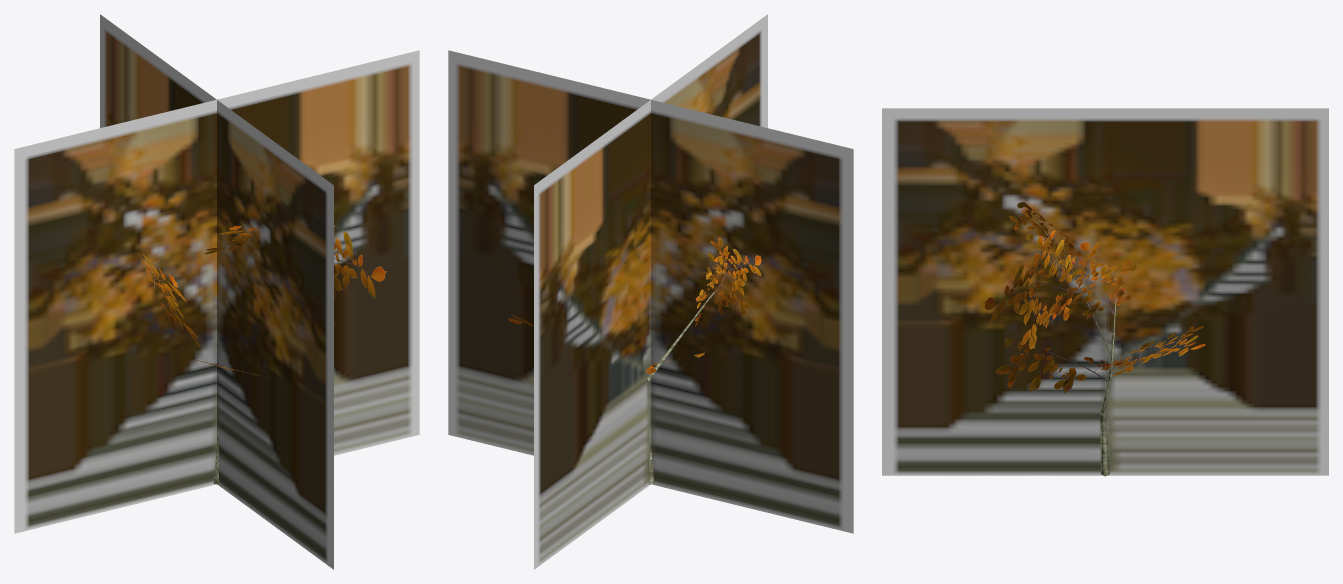
File: Tree-Beech6B-mobile.fbx
The picture shows the model from 3 angles, left to right: view 1: azimuth 30°, elevation 25°; view 2: azimuth 150°, elevation 25°; view 3: azimuth 270°, elevation 25°; orthographic projection. The views are drawn at different scales.
Parts seen in each view (by area): view 1: Billboard-BeechB, Tree-Beech6B-mobile_LOD0; view 2: Billboard-BeechB, Tree-Beech6B-mobile_LOD0; view 3: Billboard-BeechB, Tree-Beech6B-mobile_LOD0.
Part boxes in pixels (left/top/right/bottom): Billboard-BeechB: left=14, top=14, right=419, bottom=569; Tree-Beech6B-mobile_LOD0: left=138, top=209, right=387, bottom=484; Billboard-BeechB: left=448, top=14, right=853, bottom=569; Tree-Beech6B-mobile_LOD0: left=508, top=237, right=761, bottom=484; Billboard-BeechB: left=882, top=108, right=1328, bottom=475; Tree-Beech6B-mobile_LOD0: left=983, top=202, right=1205, bottom=476.
Size of what is drawn, in the model's own units: 905 by 820 by 905.
